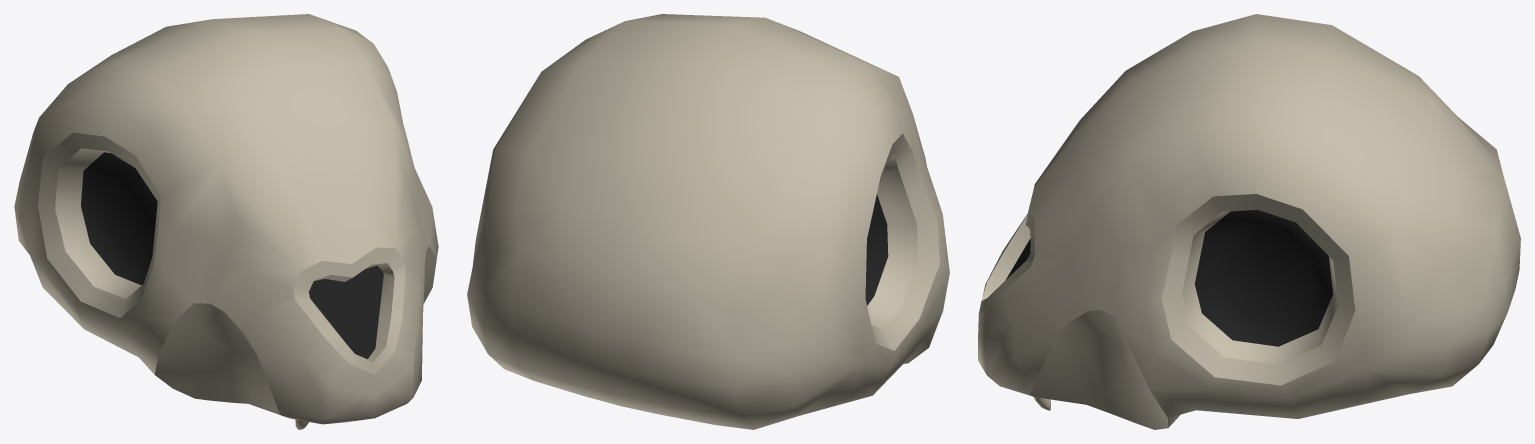
Rendered from AnimalSkull_01.fbx.
The picture shows the model from 3 angles, left to right: view 1: azimuth 30°, elevation 25°; view 2: azimuth 150°, elevation 25°; view 3: azimuth 270°, elevation 25°; orthographic projection. The views are drawn at different scales.
Visible parts, largest first — view 1: AnimalSkull_01; view 2: AnimalSkull_01; view 3: AnimalSkull_01.
Boxes of the visible parts, <box> form: AnimalSkull_01: <box>14,14,438,429</box>; AnimalSkull_01: <box>467,14,949,429</box>; AnimalSkull_01: <box>978,14,1520,429</box>.
Size of the model in its own units: 0.1587 by 0.1454 by 0.208.
